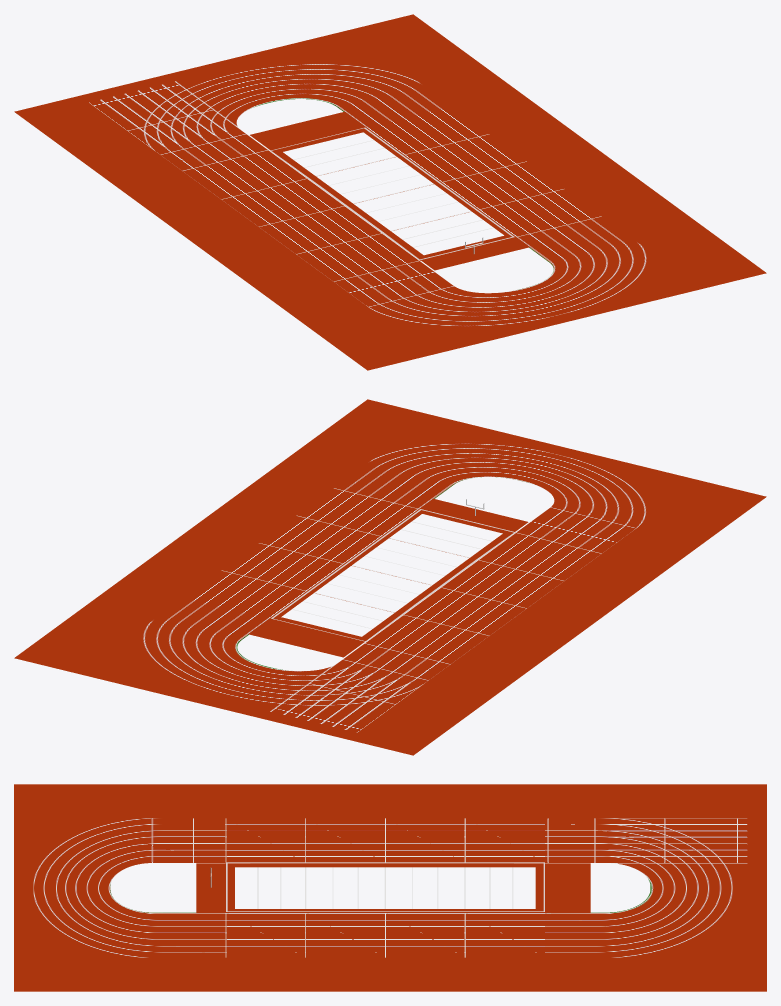
The picture shows the model from 3 angles, top to bottom: view 1: azimuth 30°, elevation 25°; view 2: azimuth 150°, elevation 25°; view 3: azimuth 270°, elevation 25°; orthographic projection. The views are drawn at different scales.
Visible parts, largest first — view 1: Plane_001; view 2: Plane_001; view 3: Plane_001.
Part boxes in pixels (x1,y1,x2,y2): Plane_001: (14, 14, 766, 370); Plane_001: (14, 399, 766, 755); Plane_001: (14, 784, 766, 991).
Size of the model in its own units: 231 by 8.36 by 354.
Materials: 1 (1 with a texture image).
